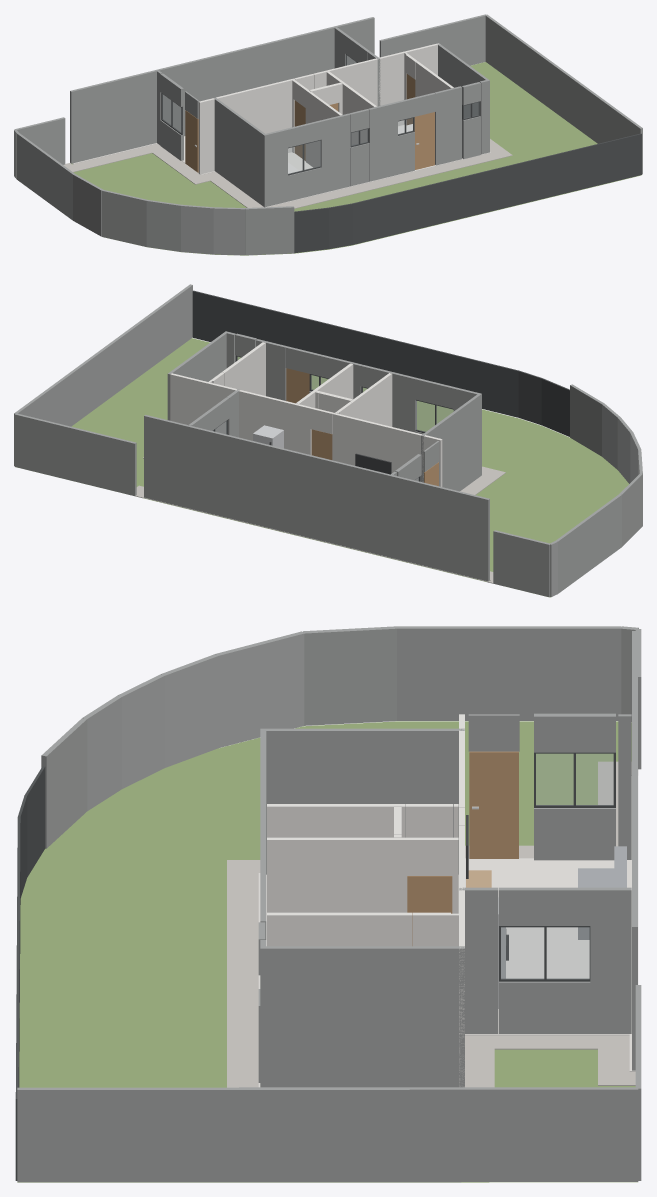
The model's file is casa.glb.
3 views of the same model, one above another, from view 1: azimuth 30°, elevation 25°; view 2: azimuth 150°, elevation 25°; view 3: azimuth 270°, elevation 25° (orthographic). The views are drawn at different scales.
Parts seen in each view (by area): view 1: fachada, esquadria, grama, parede, concreto, vidro, door6_swing__porta, piso, door0_swing__porta, door3_swing__porta; view 2: fachada, grama, esquadria, parede, vidro, door6_swing__porta, concreto, door5_swing__porta, inox, preto, piso; view 3: fachada, grama, parede, concreto, piso, vidro, door0_swing__porta, esquadria, door2_swing__porta, tecido.
Part boxes in pixels (left/top/right/bottom): fachada: left=14, top=14, right=642, bottom=255; esquadria: left=161, top=54, right=641, bottom=253; grama: left=71, top=62, right=641, bottom=255; parede: left=198, top=43, right=453, bottom=174; concreto: left=63, top=139, right=512, bottom=208; vidro: left=162, top=55, right=478, bottom=173; door6_swing__porta: left=414, top=112, right=434, bottom=169; piso: left=72, top=124, right=490, bottom=207; door0_swing__porta: left=185, top=110, right=198, bottom=172; door3_swing__porta: left=294, top=100, right=305, bottom=160; fachada: left=14, top=284, right=642, bottom=597; grama: left=18, top=338, right=628, bottom=597; esquadria: left=192, top=290, right=569, bottom=481; parede: left=170, top=342, right=442, bottom=486; vidro: left=213, top=357, right=453, bottom=480; door6_swing__porta: left=286, top=368, right=309, bottom=403; concreto: left=130, top=457, right=505, bottom=583; door5_swing__porta: left=311, top=429, right=332, bottom=459; inox: left=253, top=425, right=283, bottom=448; preto: left=269, top=442, right=391, bottom=474; piso: left=143, top=497, right=486, bottom=581; fachada: left=17, top=626, right=641, bottom=1182; grama: left=17, top=721, right=637, bottom=1182; parede: left=267, top=714, right=464, bottom=1086; concreto: left=227, top=761, right=638, bottom=1087; piso: left=258, top=776, right=638, bottom=1087; vidro: left=501, top=754, right=613, bottom=978; door0_swing__porta: left=469, top=751, right=518, bottom=858; esquadria: left=15, top=752, right=615, bottom=1180; door2_swing__porta: left=407, top=876, right=452, bottom=945; tecido: left=578, top=846, right=626, bottom=939.
Bounding box in the file's own units: 19.38 × 2.83 × 11.05.
